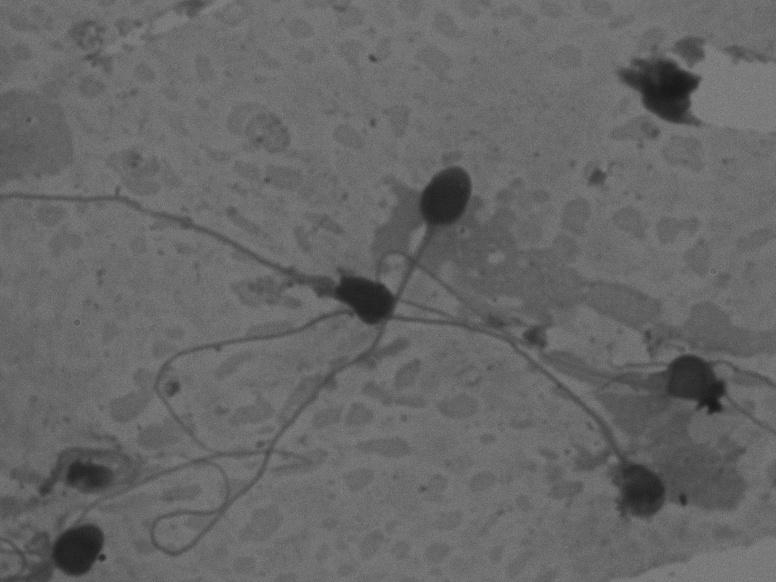Abnormal: (423, 262, 675, 528), (9, 182, 396, 330), (518, 309, 735, 412)
Normal: (130, 155, 489, 567)
